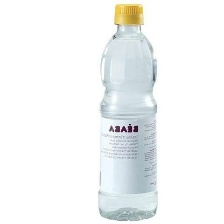bottle: (94, 2, 162, 224)
